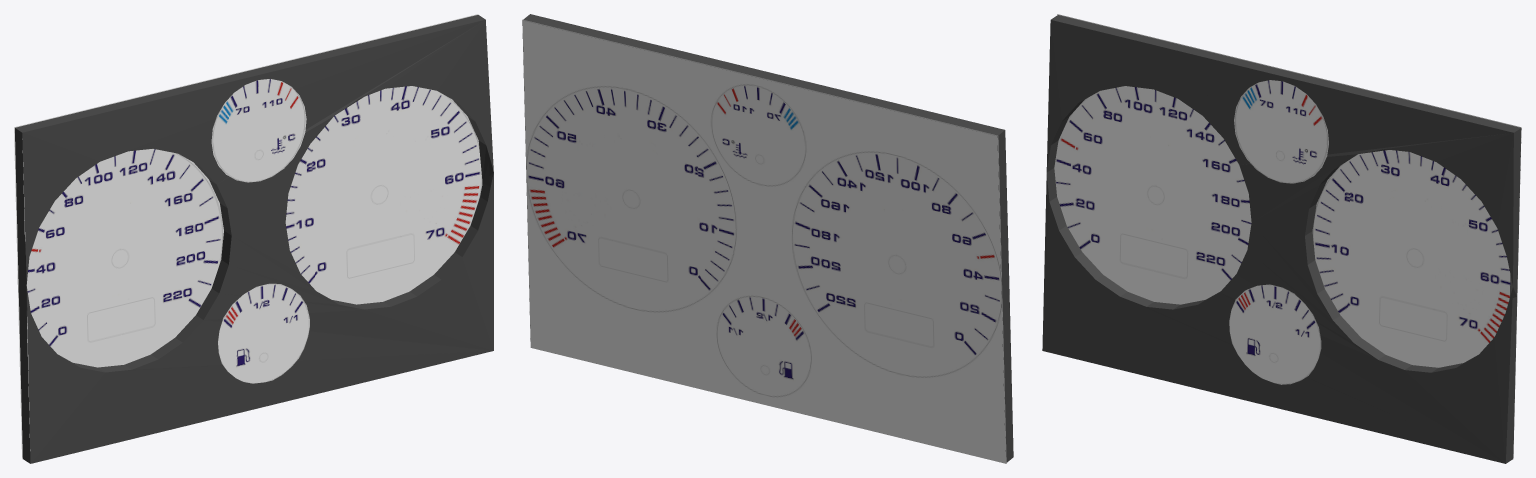
File: Dashboard.FBX
3 views of the same model, side by side, from view 1: azimuth 30°, elevation 25°; view 2: azimuth 150°, elevation 25°; view 3: azimuth 330°, elevation 25° (orthographic). The views are drawn at different scales.
Parts seen in each view (by area): view 1: Dashboard; view 2: Dashboard; view 3: Dashboard.
Part boxes in pixels (x1,y1,x2,y2): Dashboard: (14,14,493,463); Dashboard: (522,14,1013,463); Dashboard: (1042,14,1521,463).
Size of the model in its own units: 84.3 by 56.16 by 5.4.
2 materials, 1 textured.
